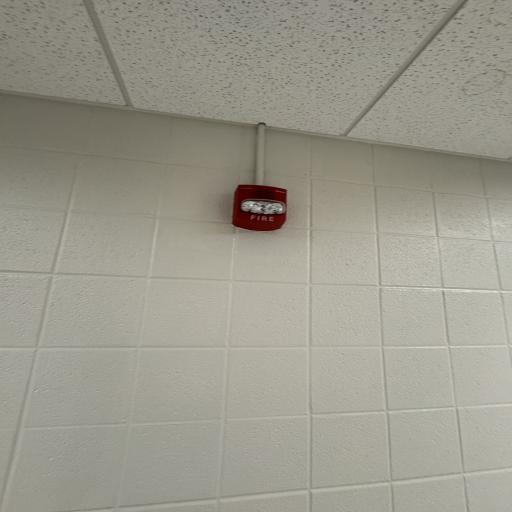fire alarm signal: (227, 177, 294, 231)
